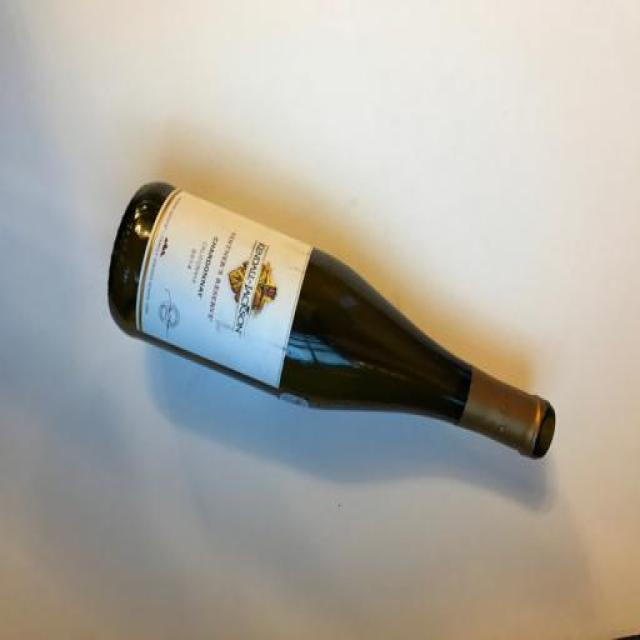glass: (23, 110, 583, 496)
